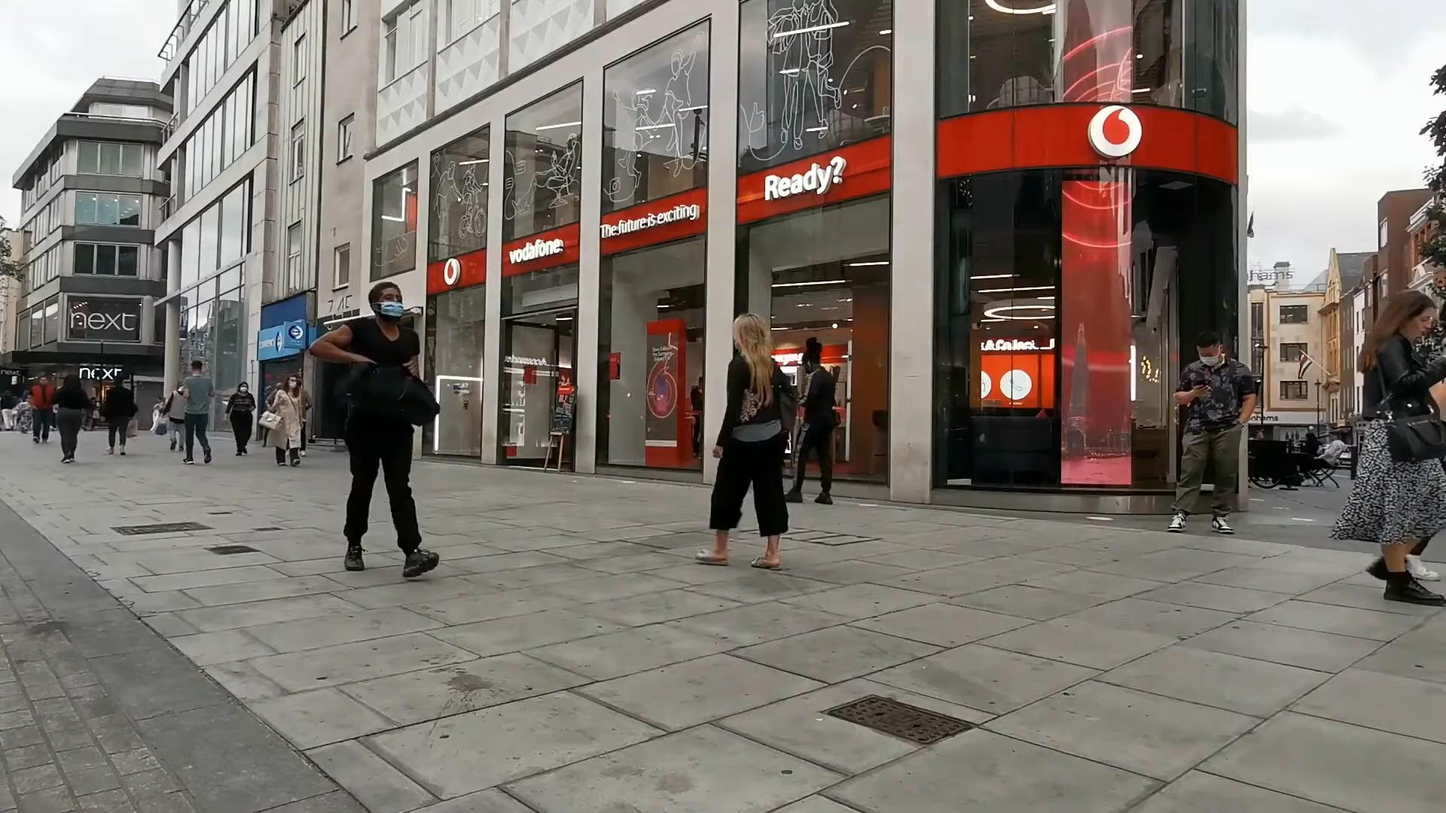no-helmet: (1384, 290, 1437, 338), (732, 312, 772, 354), (367, 281, 404, 322), (1196, 329, 1224, 367), (801, 351, 821, 374), (285, 374, 299, 390), (237, 381, 249, 394)
